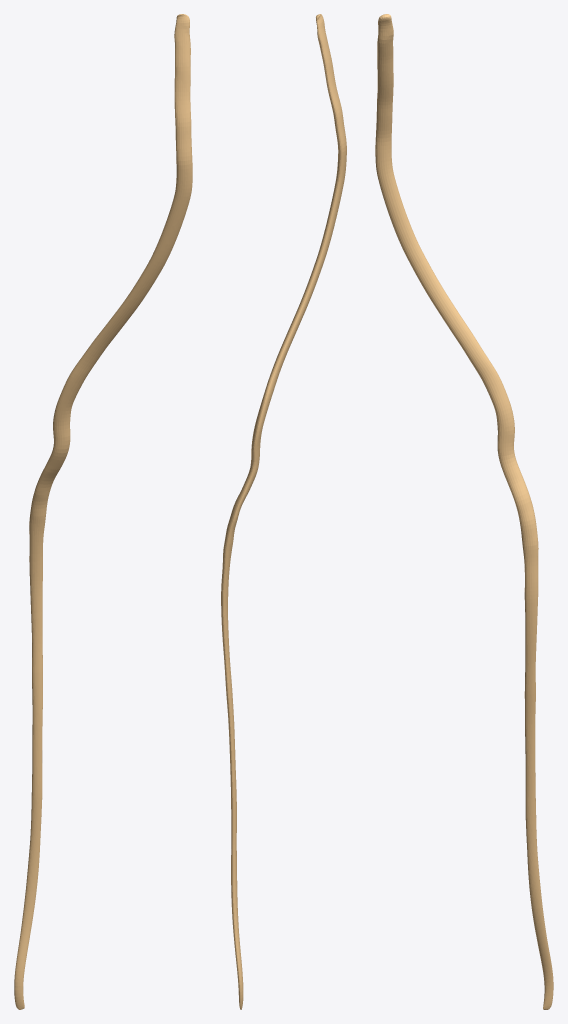
Rendered from N_median.glb.
3 views of the same model, side by side, from view 1: azimuth 90°, elevation 25°; view 2: azimuth 150°, elevation 25°; view 3: azimuth 270°, elevation 25° (orthographic). The views are drawn at different scales.
Parts seen in each view (by area): view 1: N_median; view 2: N_median; view 3: N_median.
Boxes of the visible parts, x1,y1,x2,y2 form: N_median: (14,14,192,1009); N_median: (221,14,346,1009); N_median: (375,14,553,1009).
Bounding box in the file's own units: 0.000657 × 0.0108 × 0.00175.
